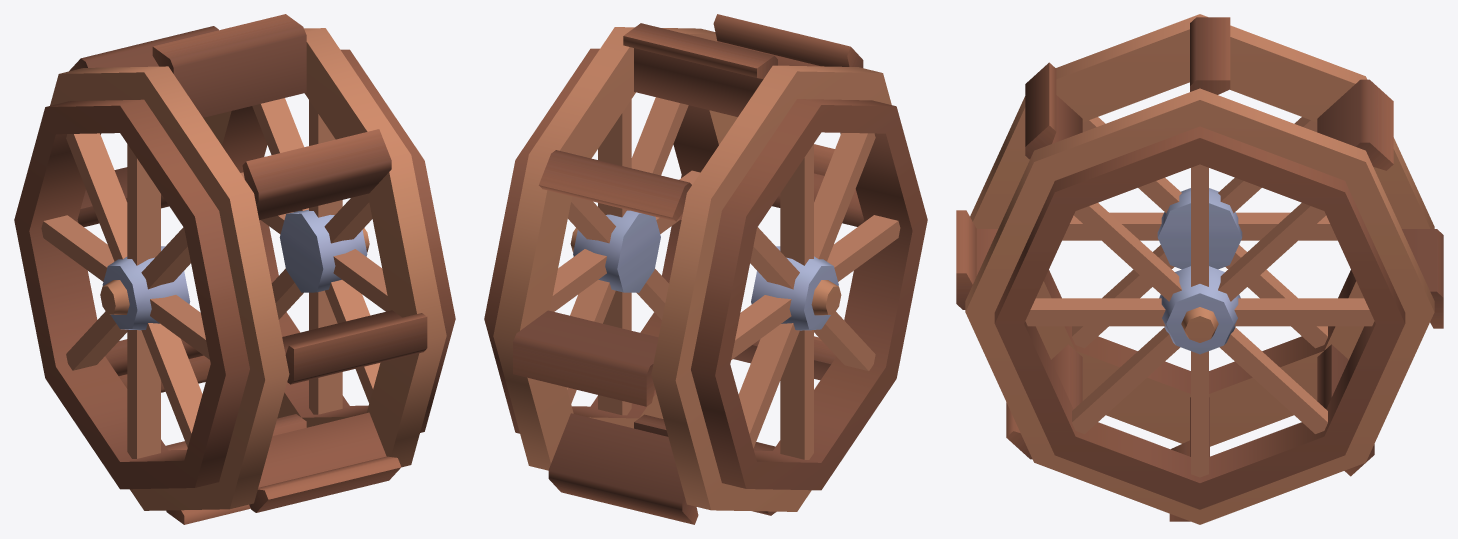
Rendered from watermill-wide.glb.
3 renders of one model, left to right at view 1: azimuth 30°, elevation 25°; view 2: azimuth 150°, elevation 25°; view 3: azimuth 270°, elevation 25°, orthographic. The views are drawn at different scales.
Parts seen in each view (by area): view 1: watermill-wide; view 2: watermill-wide; view 3: watermill-wide.
Part boxes in pixels (<box>): watermill-wide: <box>14,14,455,524</box>; watermill-wide: <box>484,14,927,524</box>; watermill-wide: <box>956,14,1443,524</box>.
Bounding box in the file's own units: 1.05 × 1.8 × 1.8.
Materials: 1 (1 with a texture image).
